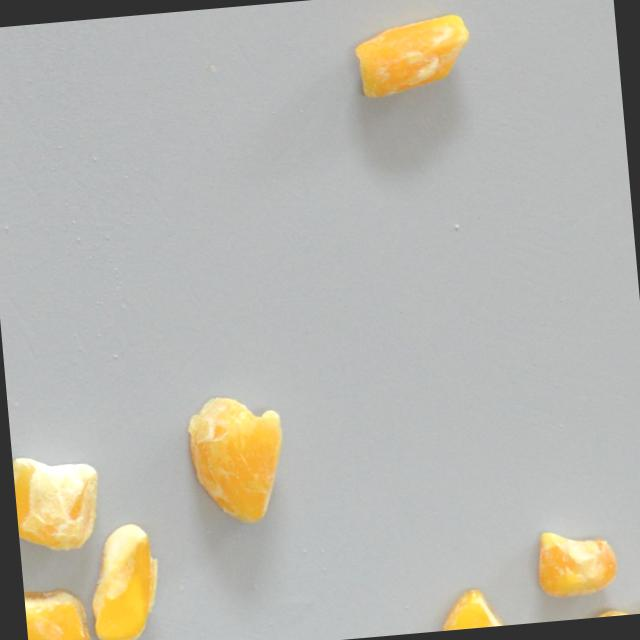pelicula: (170, 402, 314, 516), (10, 444, 110, 562), (373, 0, 452, 119), (87, 520, 164, 640), (531, 513, 614, 607), (22, 582, 89, 640), (414, 607, 543, 633)
